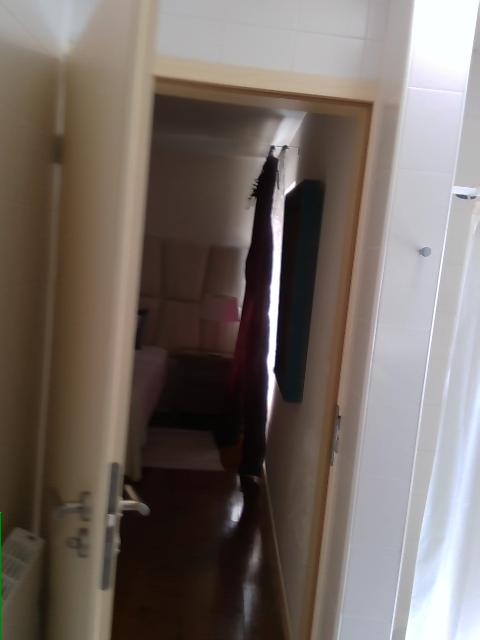open_door: (38, 46, 381, 639)
